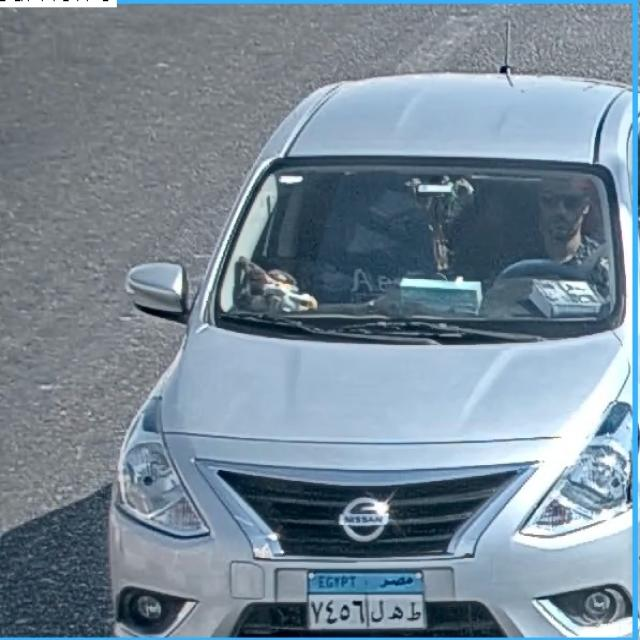windshield: (206, 165, 625, 326)
